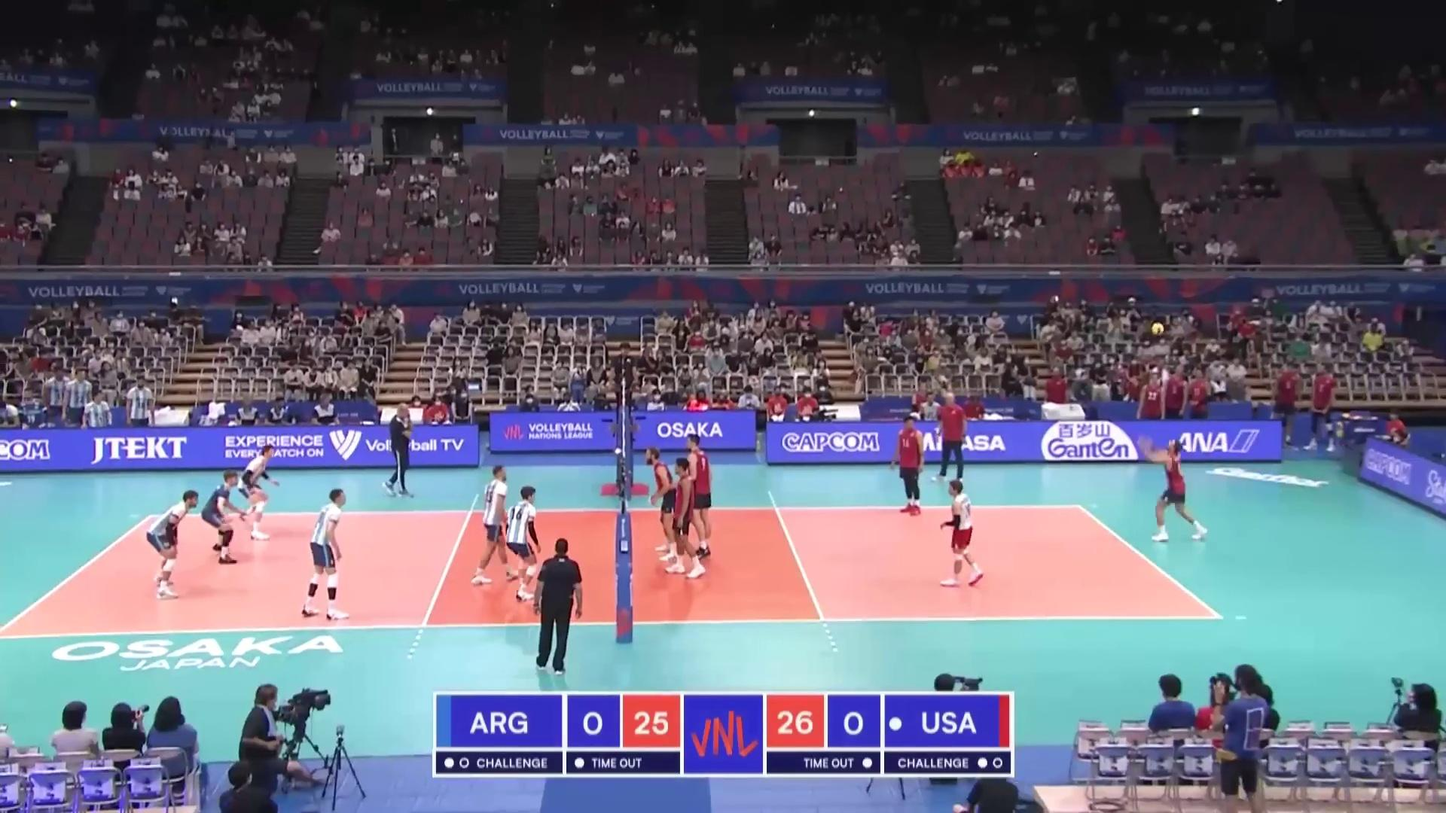player: (1146, 438, 1210, 542), (298, 488, 348, 620), (144, 490, 199, 600), (470, 464, 519, 587), (667, 457, 708, 579), (938, 478, 983, 587), (504, 486, 544, 603), (237, 443, 279, 543), (198, 471, 242, 564), (644, 447, 678, 561), (684, 433, 714, 557), (895, 416, 925, 517)
refree: (532, 538, 583, 675), (611, 341, 639, 422)
